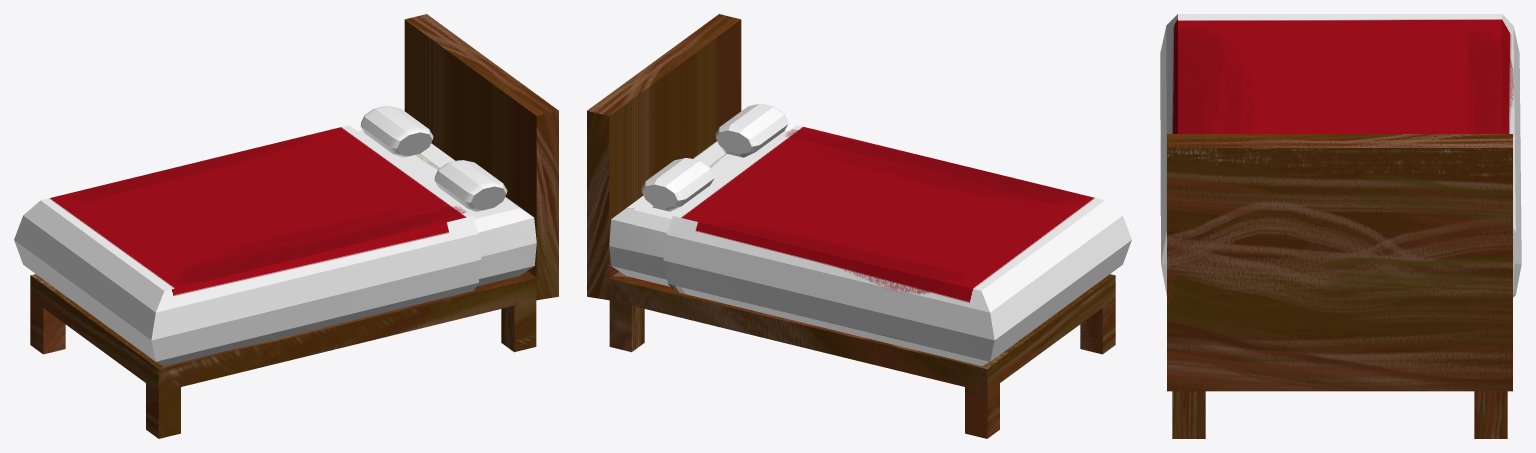
File: bed.fbx
3 views of the same model, side by side, from view 1: azimuth 30°, elevation 25°; view 2: azimuth 150°, elevation 25°; view 3: azimuth 270°, elevation 25° (orthographic). The views are drawn at different scales.
Visible parts, largest first — view 1: pCylinderShape5; view 2: pCylinderShape5; view 3: pCylinderShape5.
Boxes of the visible parts, bbox=[...] form: pCylinderShape5: bbox=[14, 14, 558, 438]; pCylinderShape5: bbox=[587, 14, 1131, 438]; pCylinderShape5: bbox=[1160, 14, 1521, 438].
Bounding box in the file's own units: 18.46 × 10 × 10.77.
Materials: 2 (1 with a texture image).
